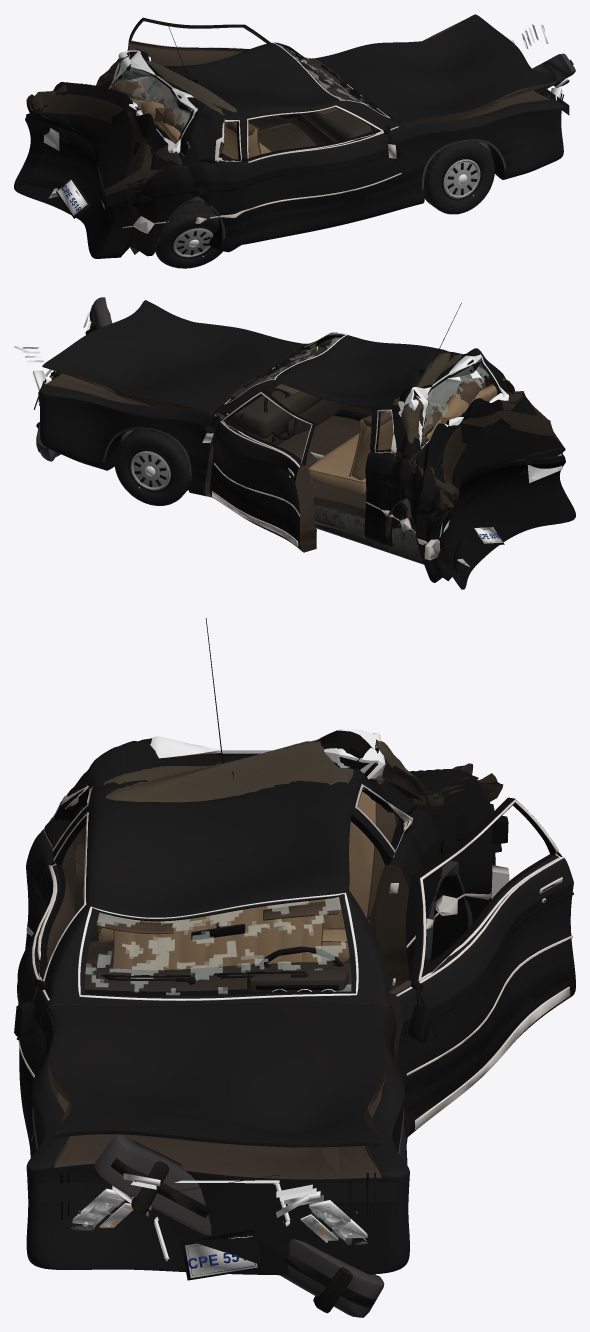
File: coupe84_rear_d3_lod1.glb
The picture shows the model from 3 angles, top to bottom: view 1: azimuth 30°, elevation 25°; view 2: azimuth 150°, elevation 25°; view 3: azimuth 270°, elevation 25°; orthographic projection. The views are drawn at different scales.
Parts seen in each view (by area): view 1: Body, Hood, Door_FR, Trunk, Interior, Wheel_FR_mesh, Glass, Wheel_RR_mesh, Door_FL, Trim, Ends, Trim_FR (+1 smaller); view 2: Body, Hood, Interior, Door_FL, Trunk, Wheel_FL_mesh, Glass, Underbody, Trim, Trim_FL, Ends, Door_FR (+2 smaller); view 3: Body, Hood, Door_FL, Interior, Glass, Ends, Bumper_F, Trim_FL, Door_FR, Trim, Trim_FR, Trunk (+1 smaller).
Part boxes in pixels (bbox=[...]): Body: bbox=[14, 42, 563, 258]; Hood: bbox=[312, 14, 556, 128]; Door_FR: bbox=[246, 105, 408, 242]; Trunk: bbox=[27, 82, 182, 190]; Interior: bbox=[110, 58, 376, 159]; Wheel_FR_mesh: bbox=[424, 141, 494, 214]; Glass: bbox=[108, 42, 390, 162]; Wheel_RR_mesh: bbox=[155, 202, 222, 268]; Door_FL: bbox=[127, 17, 301, 131]; Trim: bbox=[120, 24, 506, 245]; Ends: bbox=[26, 24, 569, 218]; Trim_FR: bbox=[247, 105, 401, 209]; Body: bbox=[39, 332, 575, 589]; Hood: bbox=[42, 300, 305, 416]; Interior: bbox=[228, 351, 497, 518]; Door_FL: bbox=[210, 390, 316, 552]; Trunk: bbox=[413, 393, 565, 504]; Wheel_FL_mesh: bbox=[114, 430, 188, 505]; Glass: bbox=[224, 333, 508, 453]; Underbody: bbox=[310, 452, 469, 566]; Trim: bbox=[103, 302, 461, 560]; Trim_FL: bbox=[199, 392, 313, 547]; Ends: bbox=[14, 311, 564, 545]; Door_FR: bbox=[306, 343, 462, 421]; Body: bbox=[25, 730, 503, 1275]; Hood: bbox=[47, 1002, 388, 1147]; Door_FL: bbox=[385, 797, 575, 1136]; Interior: bbox=[85, 775, 396, 992]; Glass: bbox=[54, 729, 408, 1000]; Ends: bbox=[39, 804, 501, 1280]; Bumper_F: bbox=[94, 1135, 384, 1317]; Trim_FL: bbox=[392, 799, 573, 1129]; Door_FR: bbox=[17, 811, 89, 1139]; Trim: bbox=[26, 618, 509, 1154]; Trim_FR: bbox=[14, 812, 88, 1077]; Trunk: bbox=[409, 763, 478, 798].
Bounding box in the file's own units: 4.69 × 2 × 2.51.
33 materials, 5 textured.
